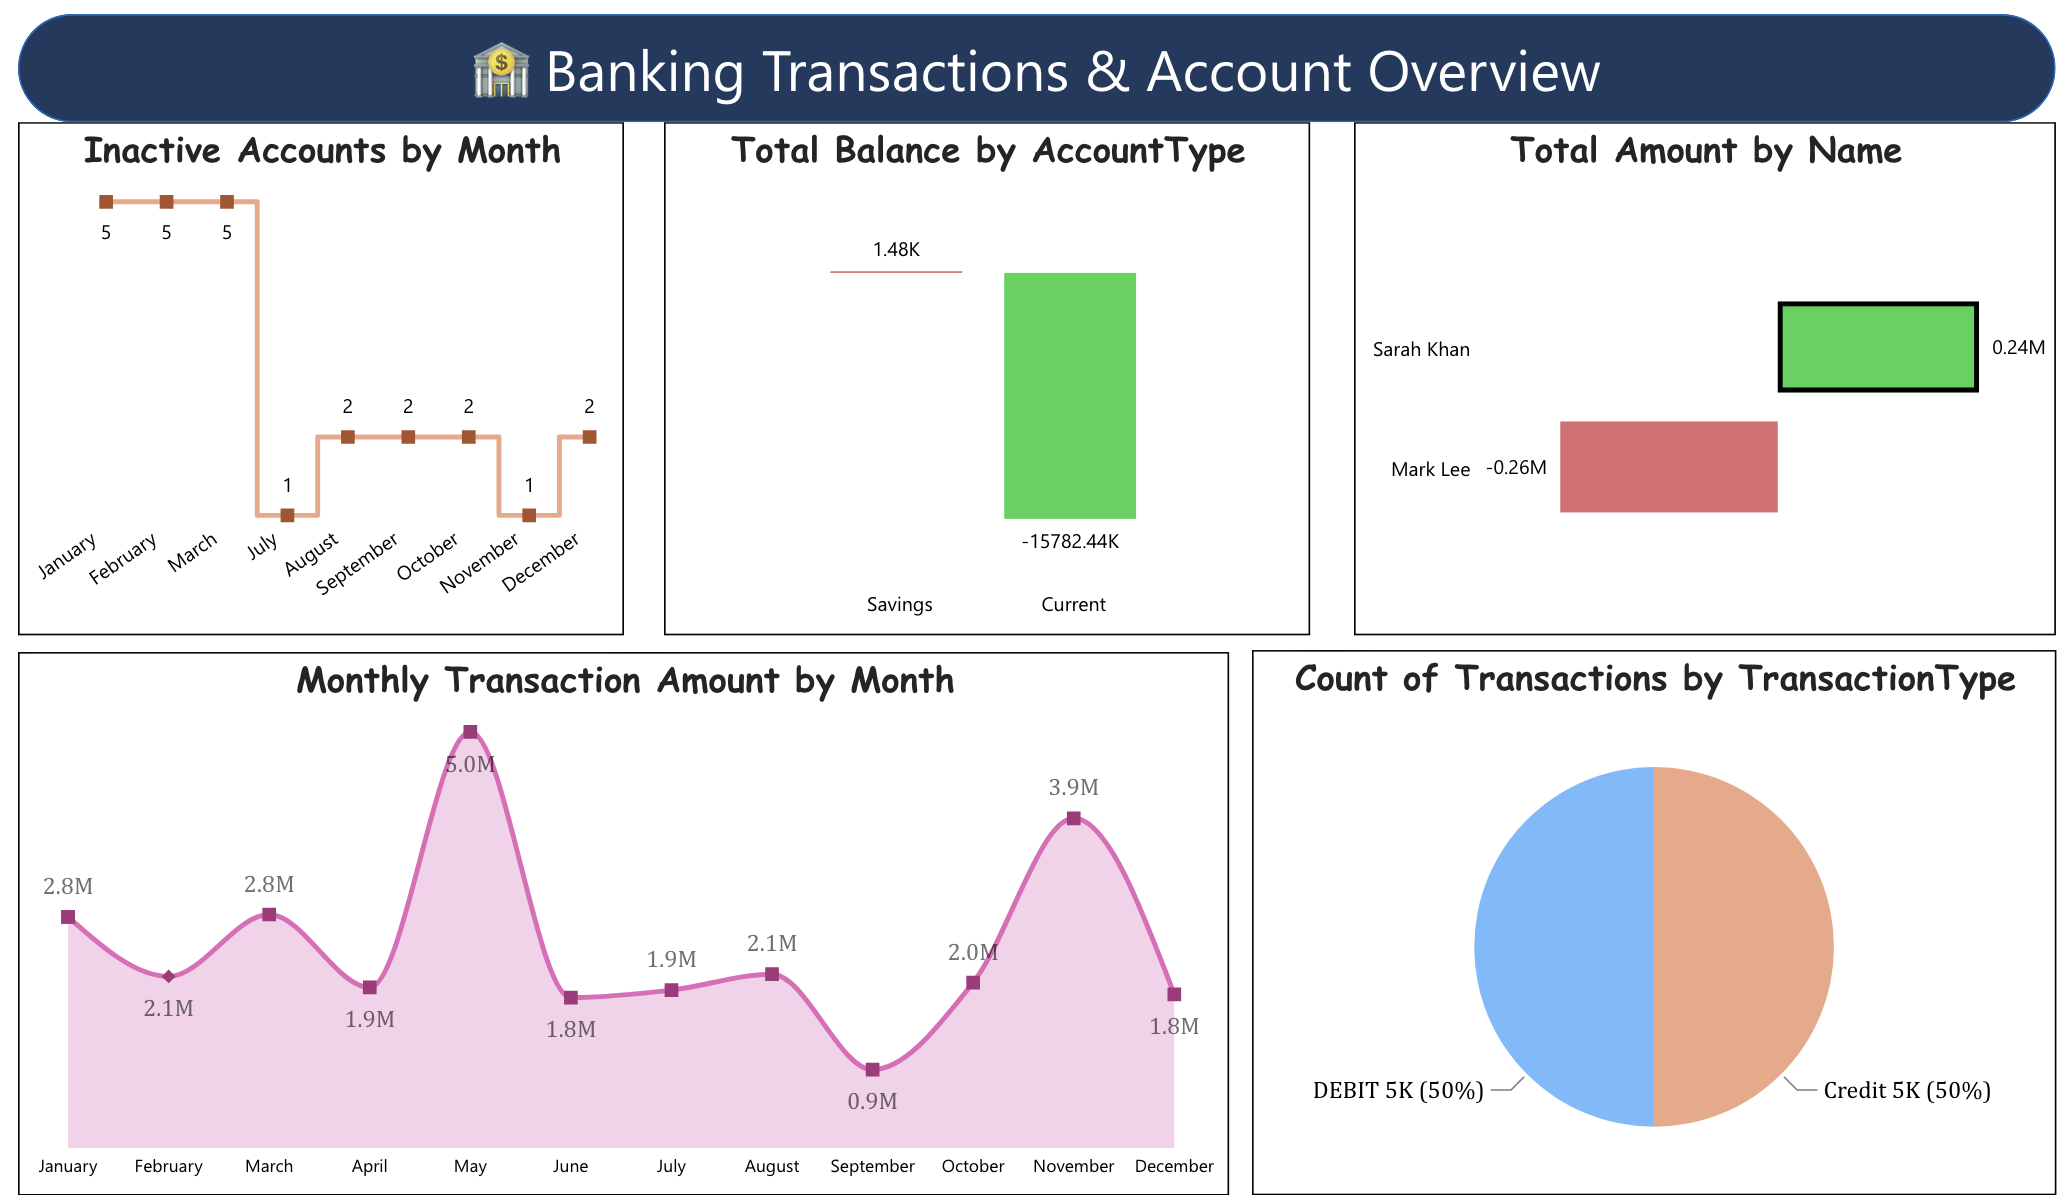

This screenshot's page, from the dashboard's own definition file:
{"tool":"powerbi","page":{"name":"Page 1","canvas":[1280,720],"ordinal":0},"visuals":[{"type":"pieChart","fields":{"Y":["Measure.Count of Transactions"],"Category":["CombinedBankingDataset.TransactionType"]},"box":[771.6,387.6,490.4,332.6],"z":0},{"type":"areaChart","fields":{"Category":["CombinedBankingDataset.TransactionDate.Variation.Date Hierarchy.Month"],"Y":["Measure.Monthly Transaction Amount"]},"box":[19.6,388.9,738.6,331.4],"z":1000},{"type":"barChart","title":"Total Amount by Name ","fields":{"Category":["CombinedBankingDataset.Name"],"Y":["Sum(CombinedBankingDataset.Amount)"]},"box":[834,66,428,313],"z":2000},{"type":"clusteredColumnChart","fields":{"Y":["Measure.Total Balance"],"Category":["CombinedBankingDataset.AccountType"]},"box":[413.3,66,393.8,313],"z":3000},{"type":"lineChart","fields":{"Category":["CombinedBankingDataset.TransactionDate.Variation.Date Hierarchy.Month"],"Y":["Measure.Inactive Accounts"]},"box":[19.6,66,369.3,313],"z":4000},{"type":"shape","box":[19.6,0,1242.4,66],"z":5000}]}

Visuals, with their boxes on the page's 1280x720 design canvas (x1, y1, x2, y2). These are canvas units, not pixel positions in the 2068x1204 screenshot, which may show the page scaled, cropped or inside an application window:
pieChart - Measure.Count of Transactions x CombinedBankingDataset.TransactionType: bbox(772, 388, 1262, 720)
areaChart - CombinedBankingDataset.TransactionDate.Variation.Date Hierarchy.Month x Measure.Monthly Transaction Amount: bbox(20, 389, 758, 720)
"Total Amount by Name " barChart: bbox(834, 66, 1262, 379)
clusteredColumnChart - Measure.Total Balance x CombinedBankingDataset.AccountType: bbox(413, 66, 807, 379)
lineChart - CombinedBankingDataset.TransactionDate.Variation.Date Hierarchy.Month x Measure.Inactive Accounts: bbox(20, 66, 389, 379)
shape: bbox(20, 0, 1262, 66)
